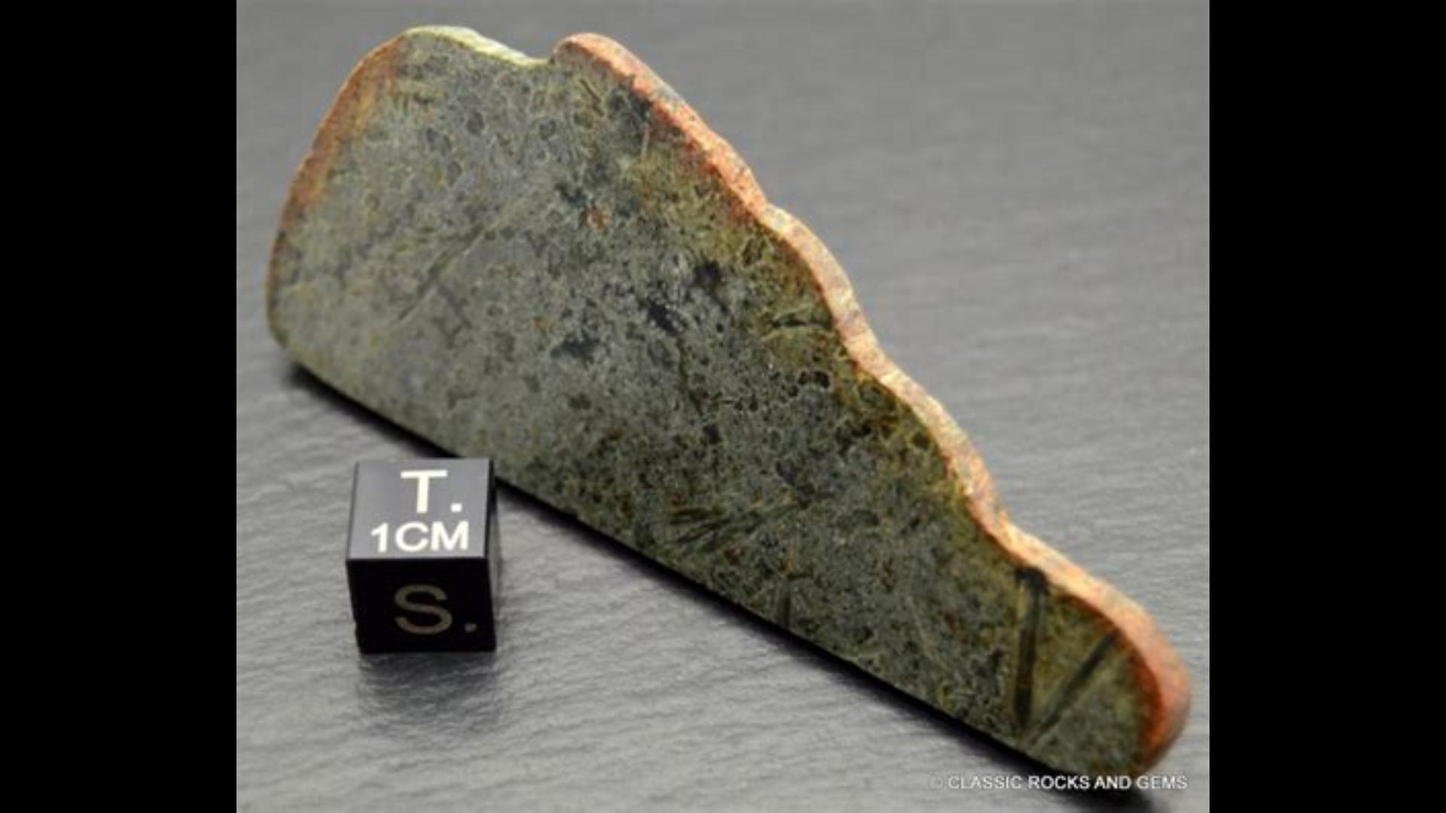rock: (269, 27, 1185, 770)
